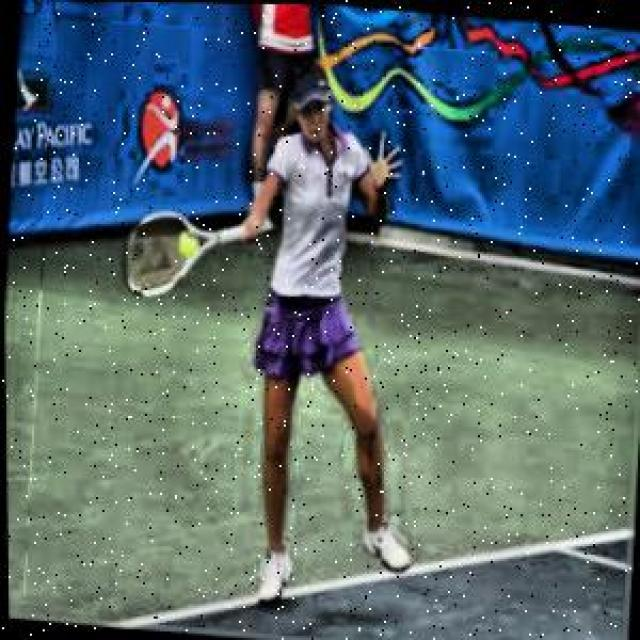tennis-ball: (180, 230, 198, 256)
